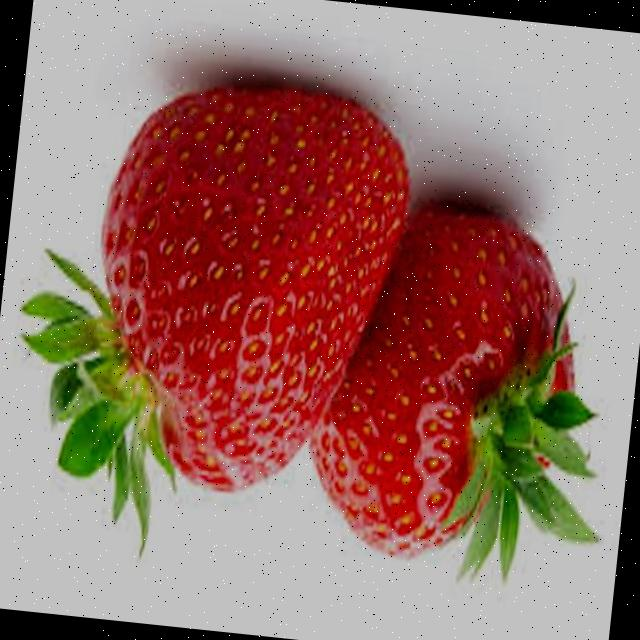strawberry: (22, 87, 407, 548), (310, 202, 595, 576)
